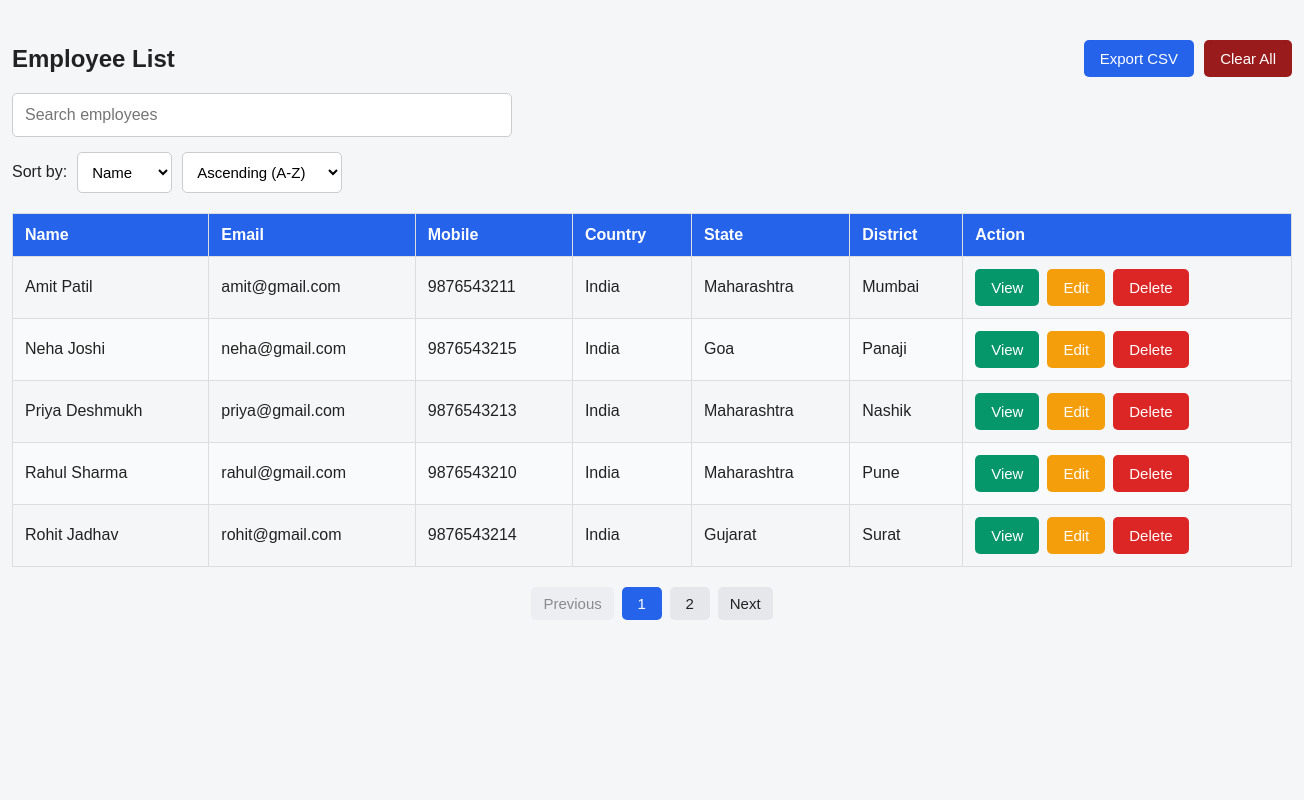
EmployeeList › covers the greater-than sorting branch
Select "Name" in the 1st dropdown: (125, 172) [77,152,172,193]
Select "Descending (Z-A)" in the 2nd dropdown: (262, 172) [182,152,342,193]
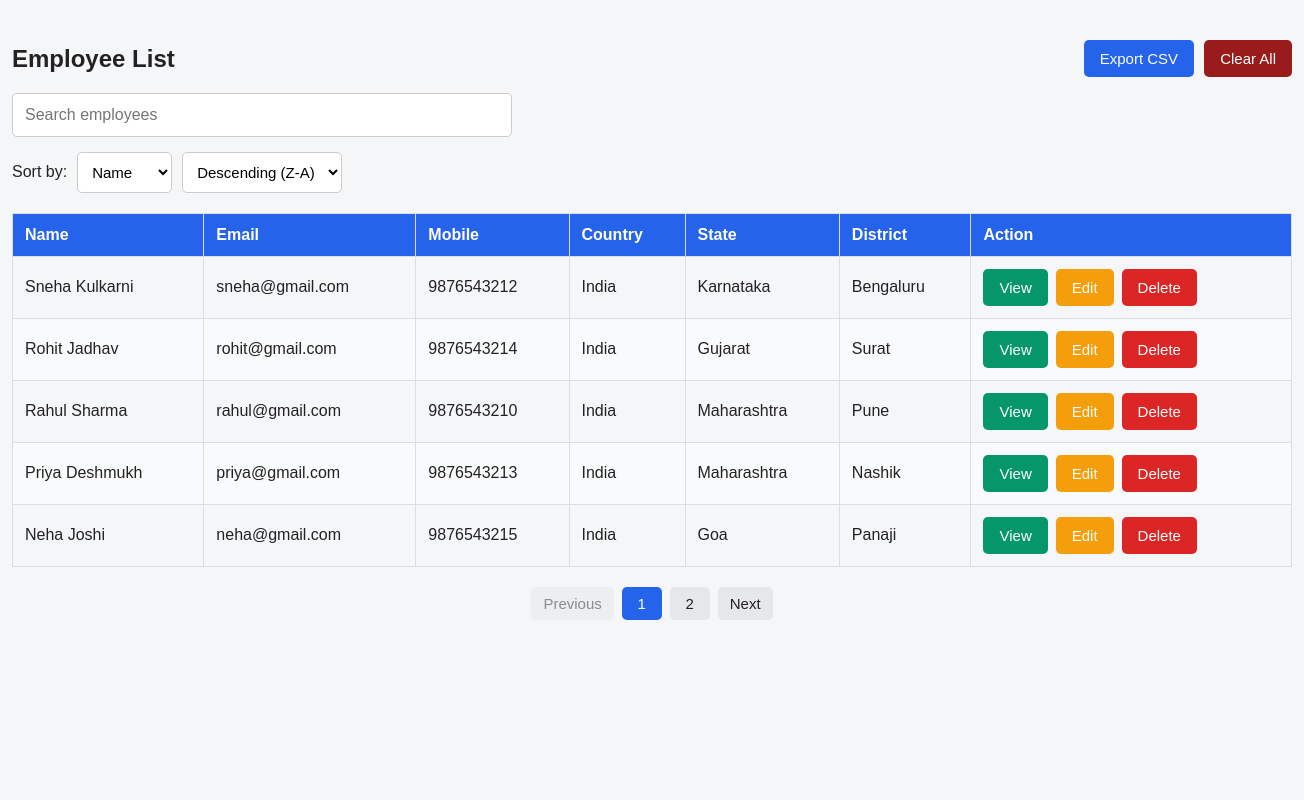
Expected: the text "Sneha Kulkarni" is shown, [12,256,204,318]
